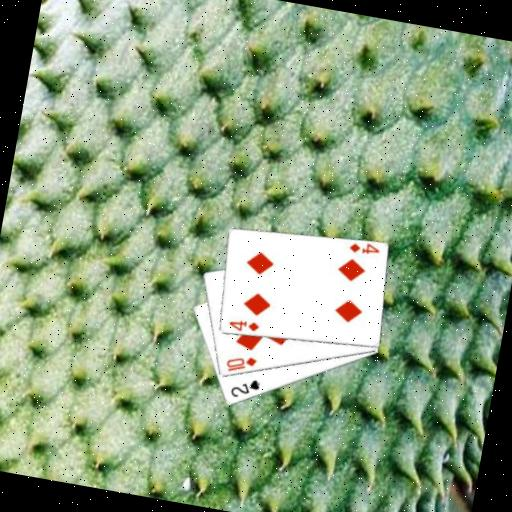10D: (221, 350, 258, 377)
2S: (226, 372, 262, 402)
4D: (344, 238, 381, 259), (225, 314, 261, 335)
